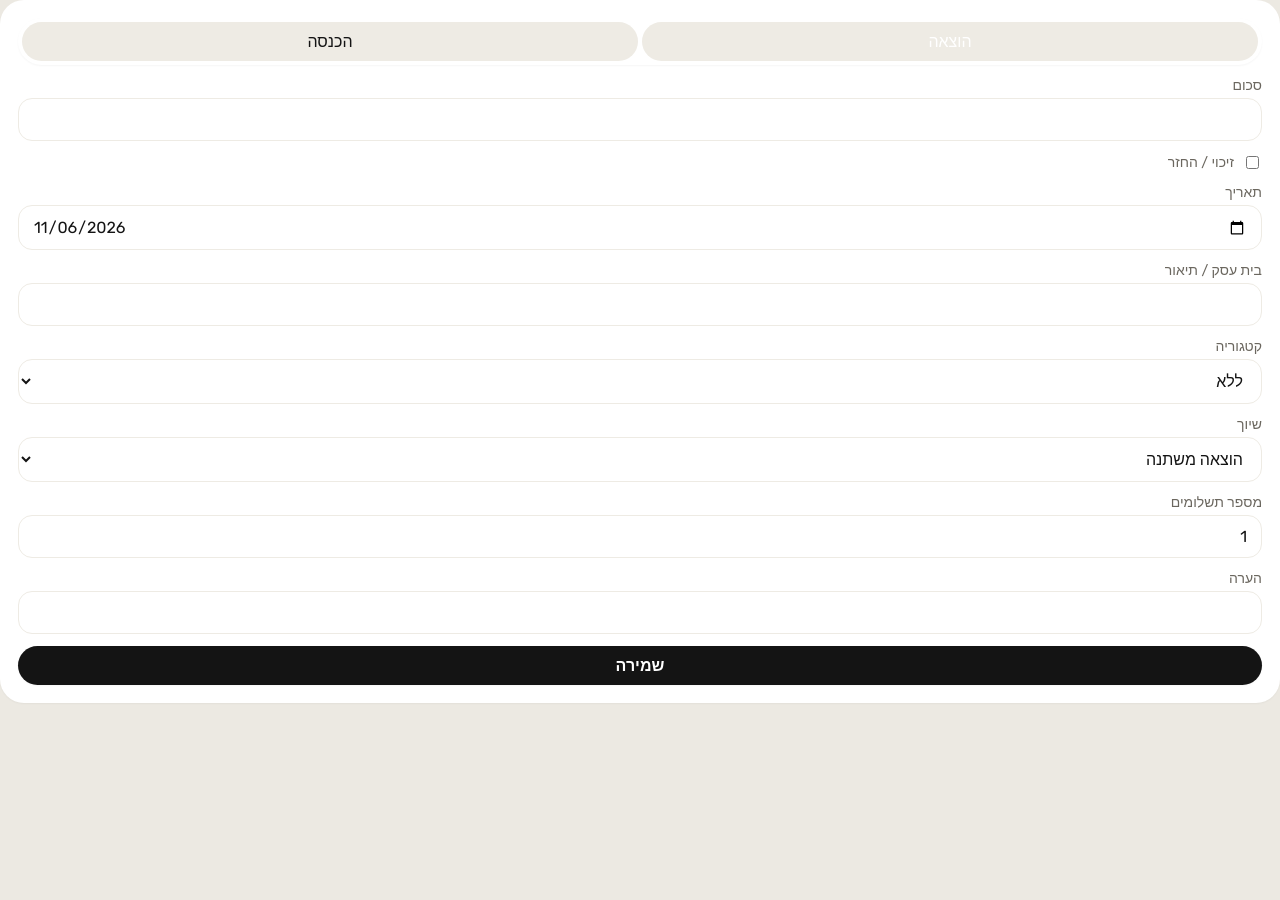
an invalid amount shows "סכום לא תקין" and does not submit
The width and height of the screenshot is (1280, 900).
Step 1. Type "abc" into the field labelled "סכום" → (640, 120), box [18,98,1262,141]
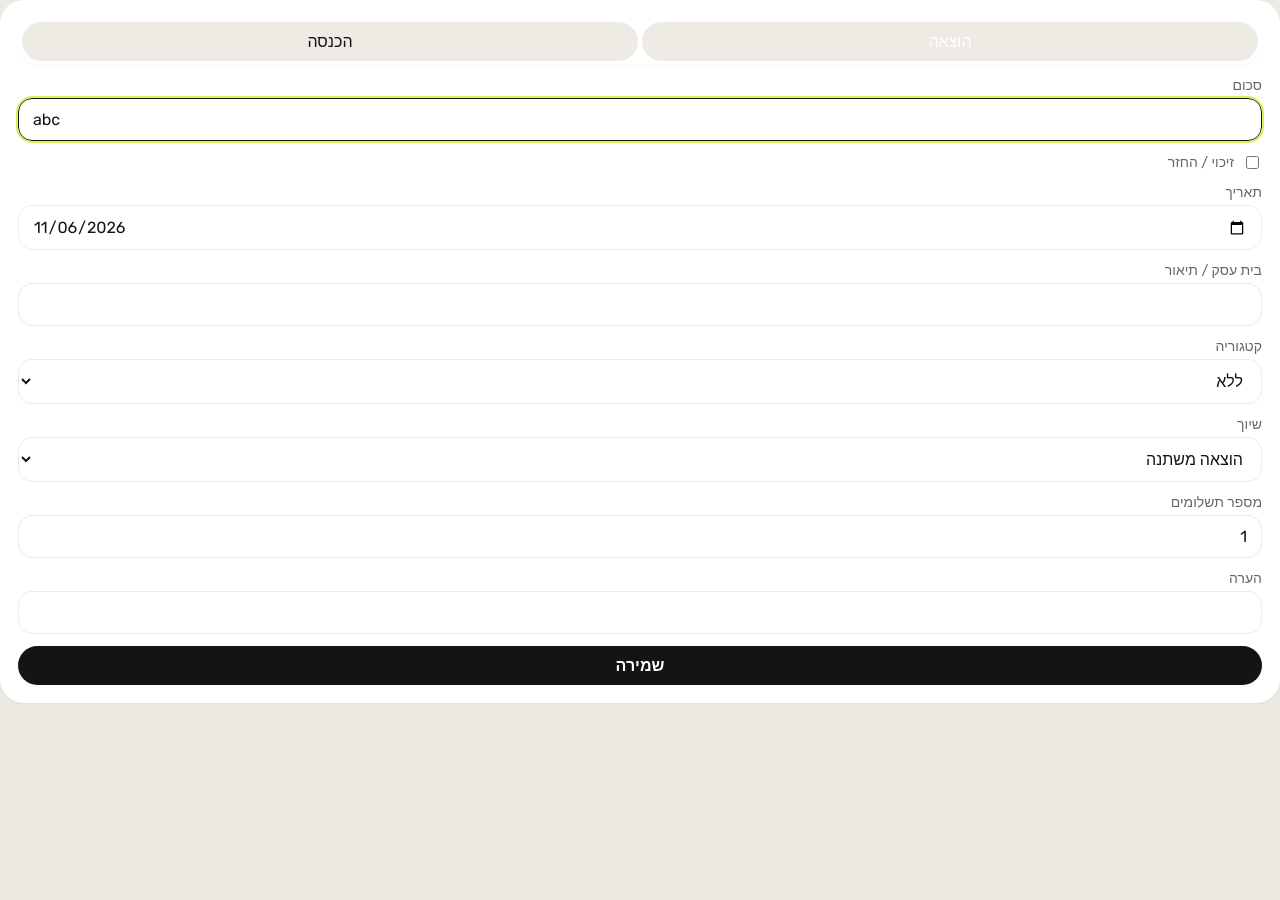
Step 2. Click the button "שמירה" → (640, 666), box [18,646,1262,685]
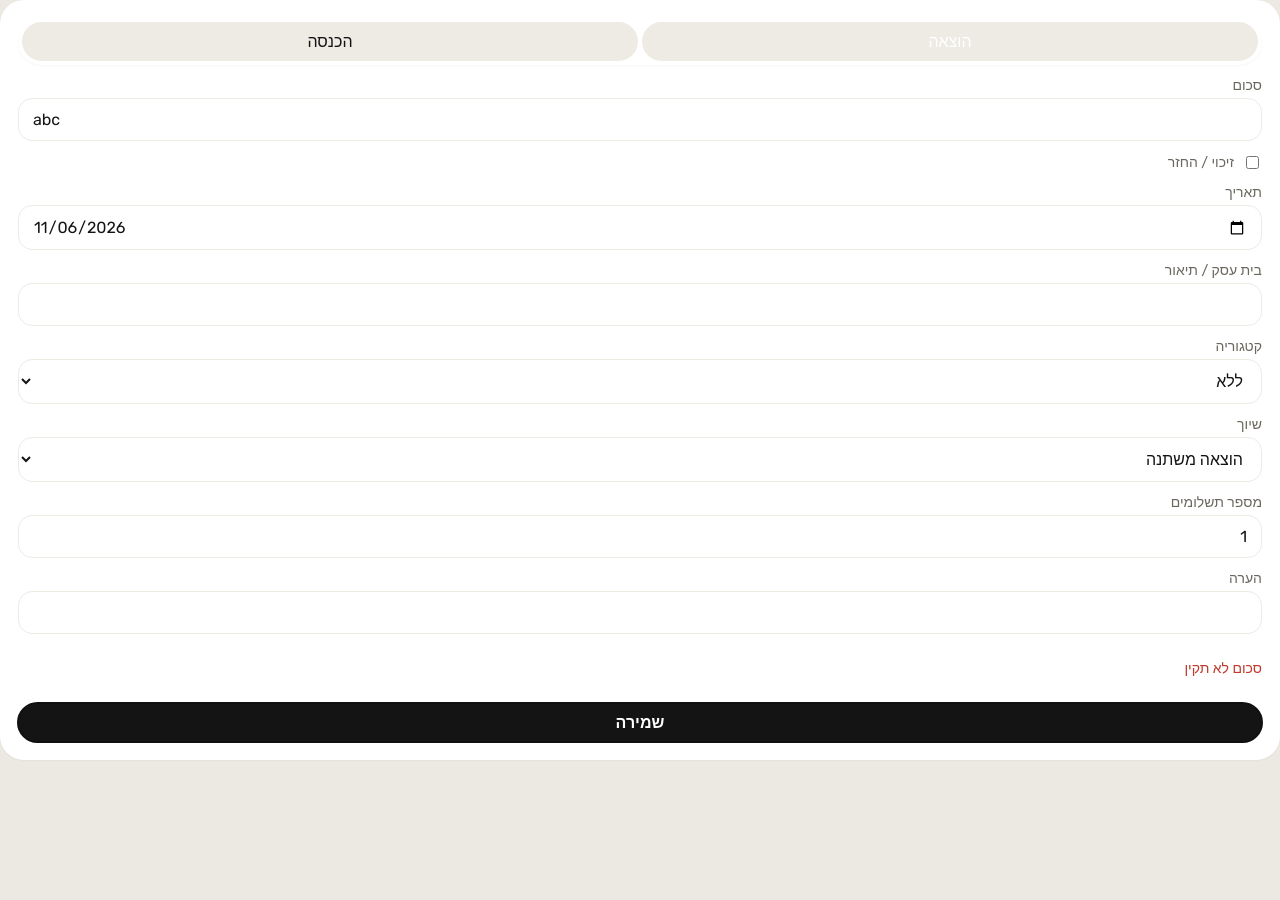
expect the text "סכום לא תקין" is shown: met, box [1184,660,1262,677]
